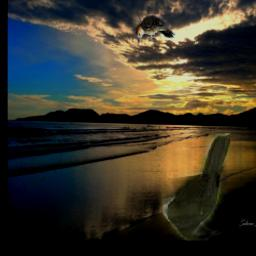Cuckoo: (163, 134, 231, 242)
Woodpecker: (132, 15, 176, 47)
